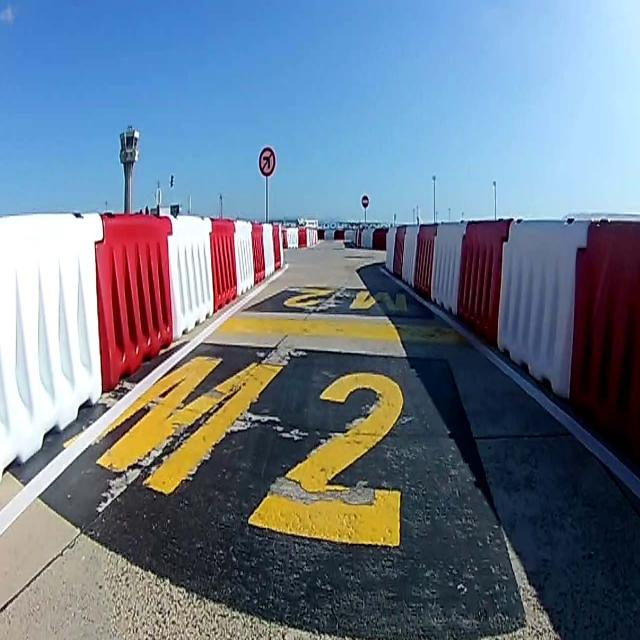soladonulmez: (259, 148, 276, 175)
